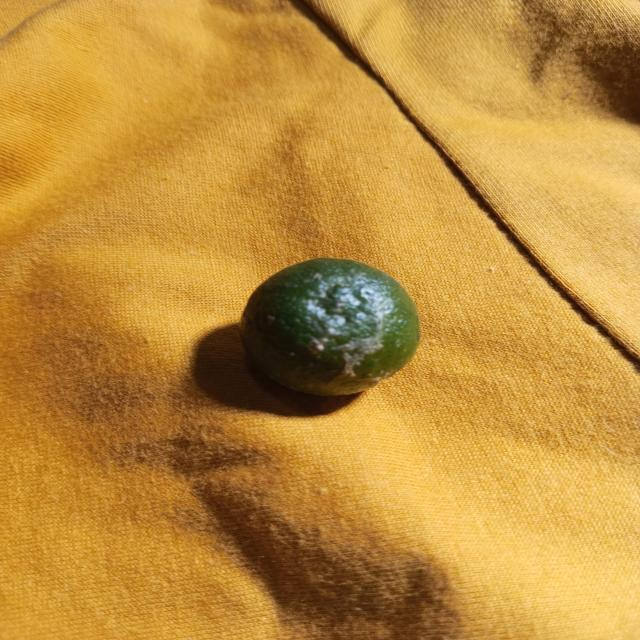scab: (242, 262, 412, 406)
